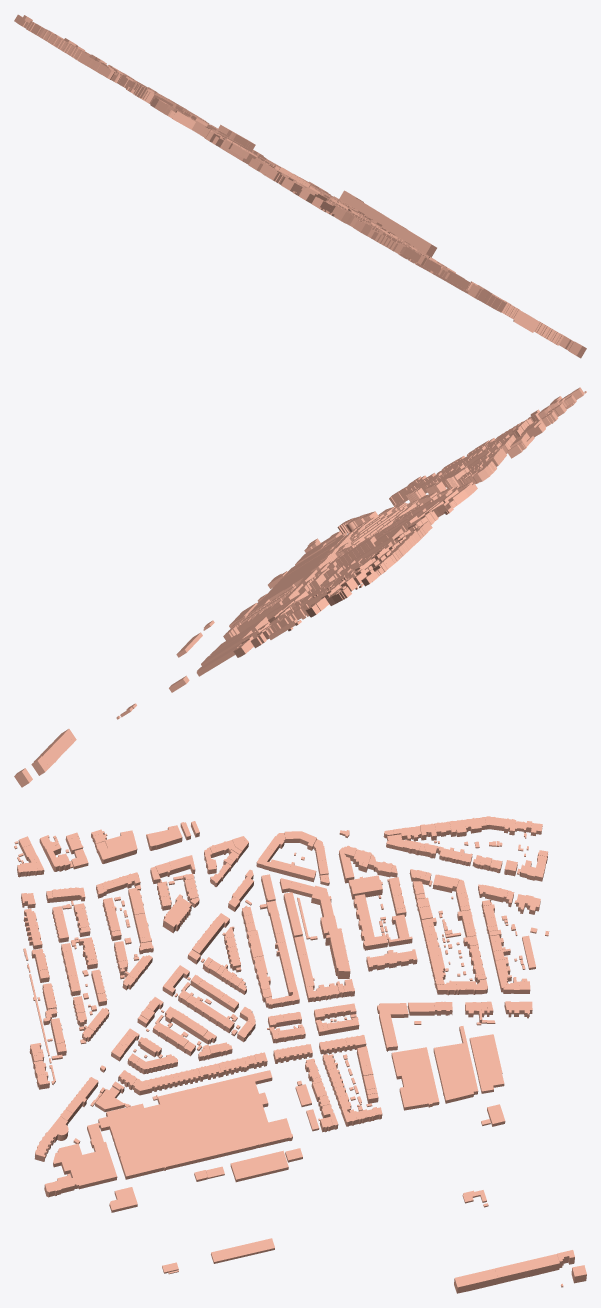
3 renders of one model, top to bottom at view 1: azimuth 30°, elevation 25°; view 2: azimuth 150°, elevation 25°; view 3: azimuth 270°, elevation 25°, orthographic. The views are drawn at different scales.
Bounding box in the file's own units: 486 × 381 × 648.
